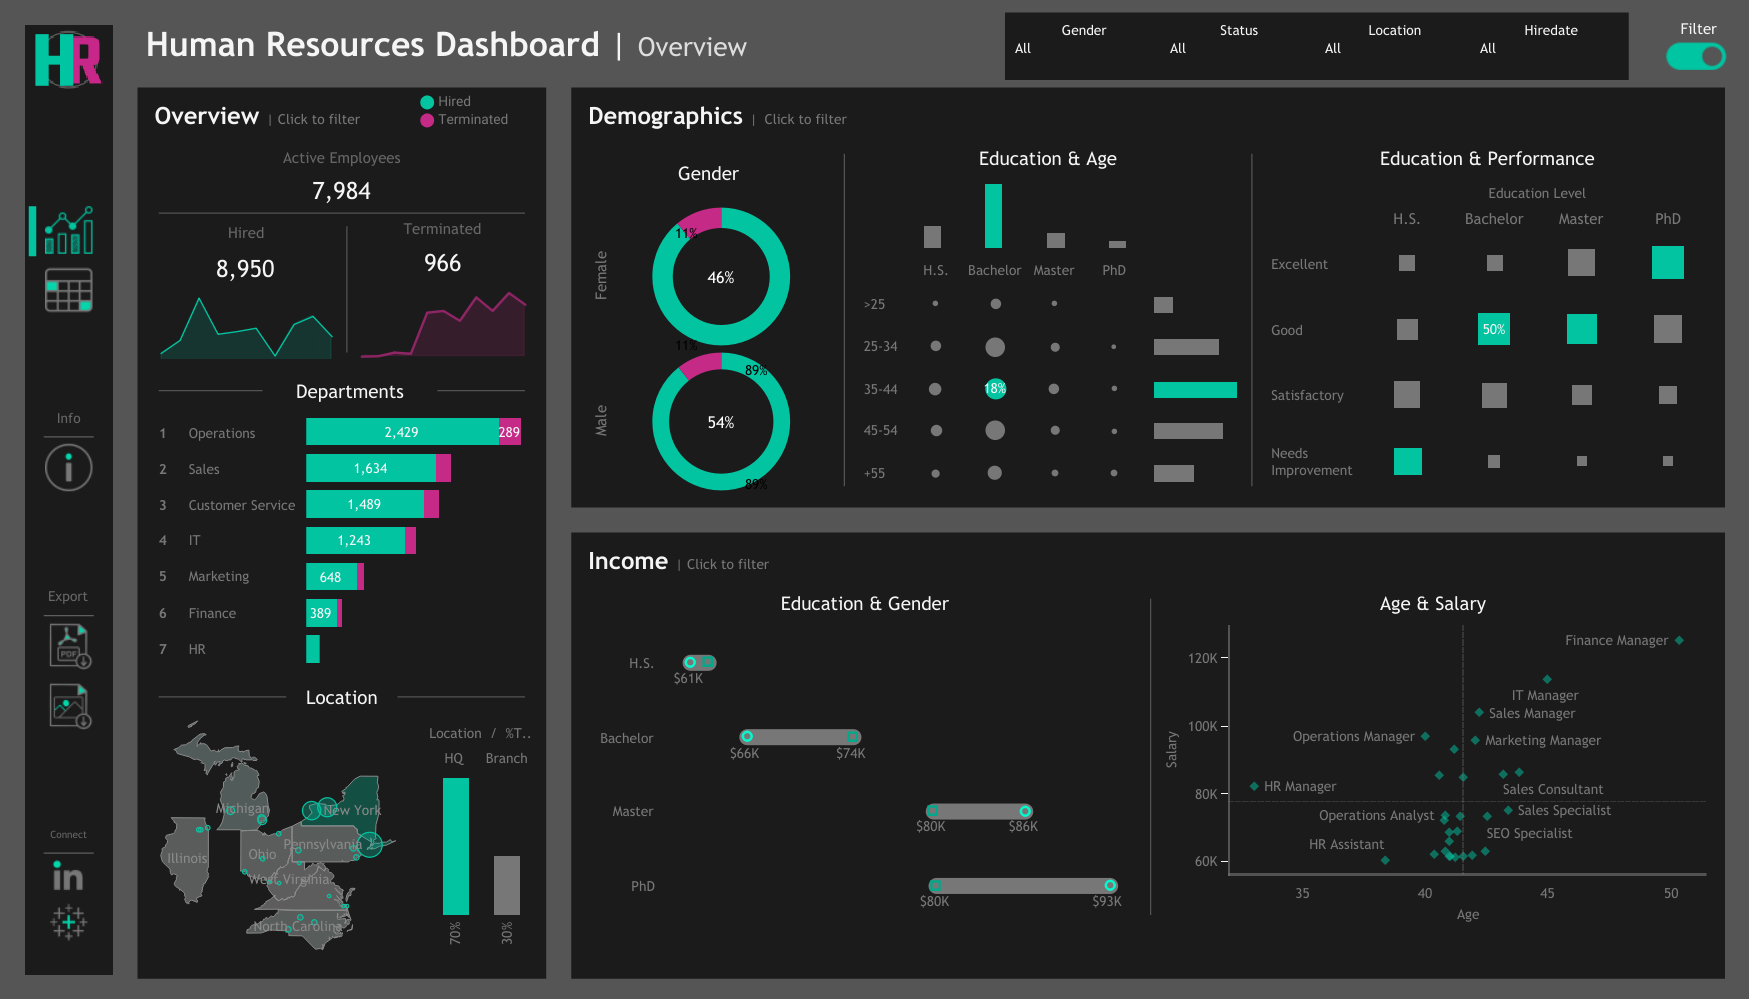

What the dashboard file says about the page in this screenshot:
{"tool":"tableau","page":{"name":"HR| Summary","canvas":[1400,800],"ordinal":1},"visuals":[{"type":"text","box":[110,0,683,70]},{"type":"blank","box":[793,0,587,70]},{"type":"filter","title":"Education level by Salary by Gender","param":"[federated.0dgz2a70q7zexl1da8lkf1h7xzn5].[none:Gender:nk]","box":[806,12,124,50]},{"type":"filter","title":"Education level by Salary by Gender","param":"[federated.0dgz2a70q7zexl1da8lkf1h7xzn5].[none:Calculation_441634288006922252:nk","box":[930,12,124,50]},{"type":"filter","title":"Education level by Salary by Gender","param":"[federated.0dgz2a70q7zexl1da8lkf1h7xzn5].[none:Calculation_441634287636094982:nk","box":[1054,12,124,50]},{"type":"filter","title":"Education level by Salary by Gender","param":"[federated.0dgz2a70q7zexl1da8lkf1h7xzn5].[yr:Hiredate:ok]","box":[1178,12,123,50]},{"type":"text","box":[1336,14,46,16]},{"type":"image","param":"Image/Logo.png","box":[20,20,70,55]},{"type":"dashboard-object","box":[1333,32,48,27]},{"type":"text","box":[333,69,101,37]},{"type":"blank","box":[20,75,70,80]},{"type":"text","box":[117,77,313,35]},{"type":"text","box":[464,77,909,32]},{"type":"text","box":[117,112,313,32]},{"type":"blank","box":[675,114,1,285.5]},{"type":"text","box":[681,114,315,29]},{"type":"blank","box":[1001,114,1,285.5]},{"type":"text","box":[1007,114,366,29]},{"type":"text","box":[464,119,206,41]},{"type":"worksheet","title":"Education level by Hired","mark":"Bar","rows":["Calculation_441634287599095808"],"cols":["Education Level"],"box":[681,143,315,62]},{"type":"worksheet","title":"Education by Performance Rating","mark":"Square","rows":["Performance Rating"],"cols":["Education Level"],"box":[1007,143,366,256.5]},{"type":"worksheet","title":"BAN(Total Active) ","mark":"Text","box":[117,144,313,33]},{"type":"worksheet","title":"Gender","mark":"Pie","rows":["Gender"],"cols":["Calculation_441634287650902024","Calculation_441634287650902024"],"box":[464,160,206,239.5]},{"type":"blank","box":[23,165,6,40]},{"type":"dashboard-object","box":[30,165,50,38]},{"type":"blank","box":[117,177,313,1]},{"type":"text","box":[117,178,160,28]},{"type":"blank","box":[277,178,1,121]},{"type":"text","box":[278,178,151.8,26]},{"type":"blank","box":[30,203,50,10]},{"type":"worksheet","title":"BAN(Total Terminated)","mark":"Text","box":[278,204,151.8,32]},{"type":"worksheet","title":"Age Group by Education","mark":"Circle","rows":["Calculation_441634287666233354"],"cols":["Education Level"],"box":[681,205,238,194.5]},{"type":"worksheet","title":"Age Group by Hired","mark":"Bar","rows":["Calculation_441634287666233354"],"cols":["Calculation_441634287599095808"],"box":[919,205,77,194.5]},{"type":"worksheet","title":"BAN(Total hired)","mark":"Text","box":[117,206,160,32]},{"type":"dashboard-object","box":[30,213,50,38]},{"type":"worksheet","title":"Terminated by Year","mark":"Area","rows":["Calculation_441634287608729601","Calculation_441634287608729601"],"cols":["Termdate"],"box":[278,236,151.8,63]},{"type":"worksheet","title":"Hired by Year","mark":"Line","rows":["Calculation_441634287599095808","Calculation_441634287599095808"],"cols":["Hiredate"],"box":[117,238,160,61]},{"type":"blank","box":[30,251,50,73.3]},{"type":"text","box":[91,291,1307,211]},{"type":"blank","box":[127,304,83,30]},{"type":"text","box":[210,304,140,30]},{"type":"blank","box":[350,304,70,30]},{"type":"text","box":[30,324.3,50,20]},{"type":"worksheet","title":"Hired by Departments","mark":"Bar","rows":["Calculation_441634287631294468","Department"],"cols":["Calculation_441634287599095808"],"box":[117,334,313,207]},{"type":"blank","box":[30,344.3,50,11]},{"type":"dashboard-object","box":[30,355.3,50,38]},{"type":"blank","box":[30,393.3,50,73.3]},{"type":"text","box":[464,433.5,909,35]},{"type":"text","box":[30,466.7,50,20]},{"type":"text","box":[469,473.5,446,29]},{"type":"blank","box":[920,473.5,1,273]},{"type":"text","box":[926,473.5,442,29]},{"type":"blank","box":[30,486.7,50,11]},{"type":"dashboard-object","box":[30,497.7,50,38]},{"type":"blank","box":[91,502,1307,296]},{"type":"worksheet","title":"Education level by Salary by Gender","mark":"Square","rows":["Education Level"],"cols":["Salary","Salary"],"box":[469,502.5,446,244]},{"type":"worksheet","title":"Age vs Salary By job title","mark":"Shape","rows":["Salary"],"cols":["Calculation_441634287660945417"],"box":[926,502.5,442,244]},{"type":"blank","box":[30,535.7,50,10]},{"type":"dashboard-object","box":[30,545.7,50,38]},{"type":"blank","box":[127,546,100.3,30]},{"type":"text","box":[227.3,546,92.3,30]},{"type":"blank","box":[319.6,546,100.3,30]},{"type":"worksheet","title":"Employees by City and State","mark":"Automatic","box":[117,576,222,200]},{"type":"worksheet","title":"Hired HQ vs Branches","mark":"Bar","rows":["Calculation_441634287599095808"],"cols":["Calculation_441634287636094982","Calculation1"],"box":[339,576,91,200]},{"type":"blank","box":[30,583.7,50,73.3]},{"type":"text","box":[30,657,50,20]},{"type":"blank","box":[30,677,50,11]},{"type":"image","param":"Image/contact-linkedin.png","box":[30,688,50,25]},{"type":"blank","box":[30,713,50,10]},{"type":"image","param":"Image/contact-public.png","box":[30,723,50,30]}]}

Visuals, with their boxes on the page's 1400x800 design canvas (x1, y1, x2, y2). These are canvas units, not pixel positions in the 1749x999 screenshot, which may show the page scaled, cropped or inside an application window:
text: (x1=110, y1=0, x2=793, y2=70)
blank: (x1=793, y1=0, x2=1380, y2=70)
"Education level by Salary by Gender" filter: (x1=806, y1=12, x2=930, y2=62)
"Education level by Salary by Gender" filter: (x1=930, y1=12, x2=1054, y2=62)
"Education level by Salary by Gender" filter: (x1=1054, y1=12, x2=1178, y2=62)
"Education level by Salary by Gender" filter: (x1=1178, y1=12, x2=1301, y2=62)
text: (x1=1336, y1=14, x2=1382, y2=30)
image: (x1=20, y1=20, x2=90, y2=75)
dashboard-object: (x1=1333, y1=32, x2=1381, y2=59)
text: (x1=333, y1=69, x2=434, y2=106)
blank: (x1=20, y1=75, x2=90, y2=155)
text: (x1=117, y1=77, x2=430, y2=112)
text: (x1=464, y1=77, x2=1373, y2=109)
text: (x1=117, y1=112, x2=430, y2=144)
blank: (x1=675, y1=114, x2=676, y2=400)
text: (x1=681, y1=114, x2=996, y2=143)
blank: (x1=1001, y1=114, x2=1002, y2=400)
text: (x1=1007, y1=114, x2=1373, y2=143)
text: (x1=464, y1=119, x2=670, y2=160)
"Education level by Hired" worksheet (Bar marks): (x1=681, y1=143, x2=996, y2=205)
"Education by Performance Rating" worksheet (Square marks): (x1=1007, y1=143, x2=1373, y2=400)
"BAN(Total Active) " worksheet (Text marks): (x1=117, y1=144, x2=430, y2=177)
"Gender" worksheet (Pie marks): (x1=464, y1=160, x2=670, y2=400)
blank: (x1=23, y1=165, x2=29, y2=205)
dashboard-object: (x1=30, y1=165, x2=80, y2=203)
blank: (x1=117, y1=177, x2=430, y2=178)
text: (x1=117, y1=178, x2=277, y2=206)
blank: (x1=277, y1=178, x2=278, y2=299)
text: (x1=278, y1=178, x2=430, y2=204)
blank: (x1=30, y1=203, x2=80, y2=213)
"BAN(Total Terminated)" worksheet (Text marks): (x1=278, y1=204, x2=430, y2=236)
"Age Group by Education" worksheet (Circle marks): (x1=681, y1=205, x2=919, y2=400)
"Age Group by Hired" worksheet (Bar marks): (x1=919, y1=205, x2=996, y2=400)
"BAN(Total hired)" worksheet (Text marks): (x1=117, y1=206, x2=277, y2=238)
dashboard-object: (x1=30, y1=213, x2=80, y2=251)
"Terminated by Year" worksheet (Area marks): (x1=278, y1=236, x2=430, y2=299)
"Hired by Year" worksheet (Line marks): (x1=117, y1=238, x2=277, y2=299)
blank: (x1=30, y1=251, x2=80, y2=324)
text: (x1=91, y1=291, x2=1398, y2=502)
blank: (x1=127, y1=304, x2=210, y2=334)
text: (x1=210, y1=304, x2=350, y2=334)
blank: (x1=350, y1=304, x2=420, y2=334)
text: (x1=30, y1=324, x2=80, y2=344)
"Hired by Departments" worksheet (Bar marks): (x1=117, y1=334, x2=430, y2=541)
blank: (x1=30, y1=344, x2=80, y2=355)
dashboard-object: (x1=30, y1=355, x2=80, y2=393)
blank: (x1=30, y1=393, x2=80, y2=467)
text: (x1=464, y1=434, x2=1373, y2=468)
text: (x1=30, y1=467, x2=80, y2=487)
text: (x1=469, y1=474, x2=915, y2=502)
blank: (x1=920, y1=474, x2=921, y2=746)
text: (x1=926, y1=474, x2=1368, y2=502)
blank: (x1=30, y1=487, x2=80, y2=498)
dashboard-object: (x1=30, y1=498, x2=80, y2=536)
blank: (x1=91, y1=502, x2=1398, y2=798)
"Education level by Salary by Gender" worksheet (Square marks): (x1=469, y1=502, x2=915, y2=746)
"Age vs Salary By job title" worksheet (Shape marks): (x1=926, y1=502, x2=1368, y2=746)
blank: (x1=30, y1=536, x2=80, y2=546)
dashboard-object: (x1=30, y1=546, x2=80, y2=584)
blank: (x1=127, y1=546, x2=227, y2=576)
text: (x1=227, y1=546, x2=320, y2=576)
blank: (x1=320, y1=546, x2=420, y2=576)
"Employees by City and State" worksheet: (x1=117, y1=576, x2=339, y2=776)
"Hired HQ vs Branches" worksheet (Bar marks): (x1=339, y1=576, x2=430, y2=776)
blank: (x1=30, y1=584, x2=80, y2=657)
text: (x1=30, y1=657, x2=80, y2=677)
blank: (x1=30, y1=677, x2=80, y2=688)
image: (x1=30, y1=688, x2=80, y2=713)
blank: (x1=30, y1=713, x2=80, y2=723)
image: (x1=30, y1=723, x2=80, y2=753)
